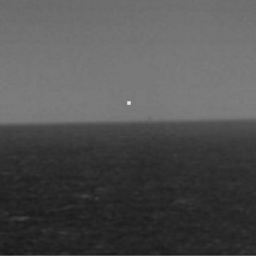Target: (125, 99, 133, 106)
